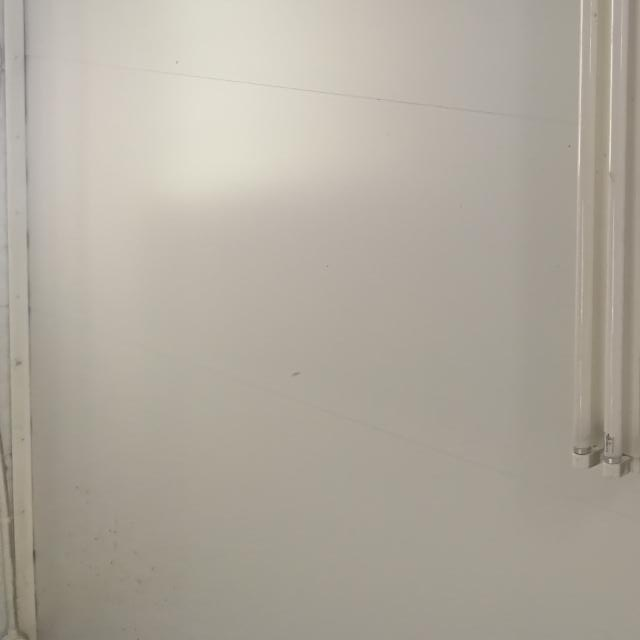fluorescent tube: (545, 0, 640, 492)
